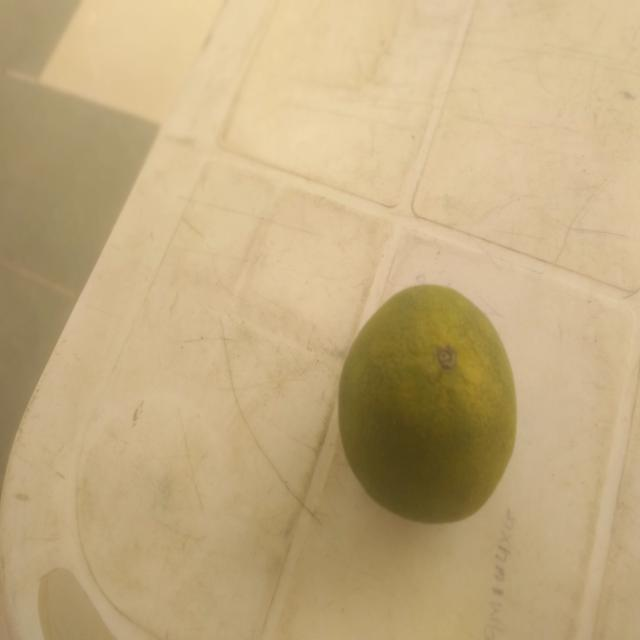Unripe: (308, 248, 545, 554)
